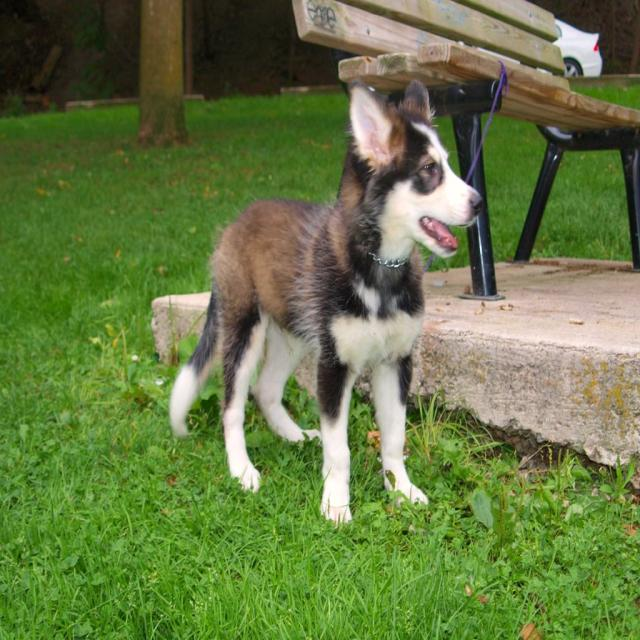Dog: (170, 78, 484, 521)
